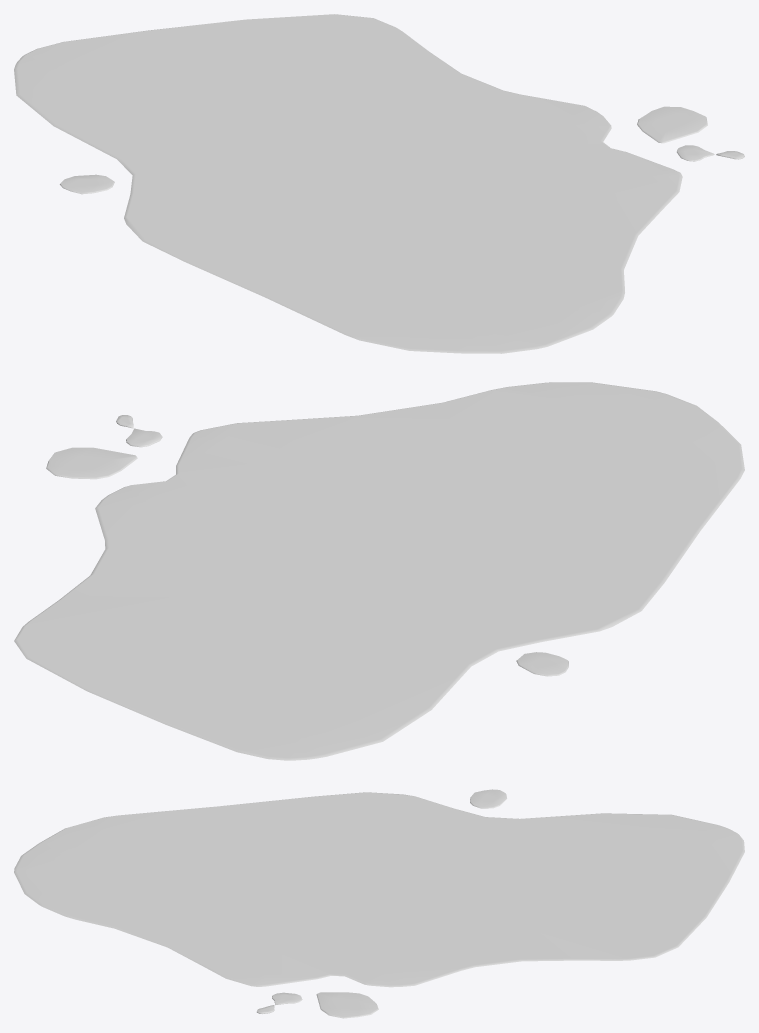
File: saliva.fbx
3 views of the same model, one above another, from view 1: azimuth 30°, elevation 25°; view 2: azimuth 150°, elevation 25°; view 3: azimuth 270°, elevation 25° (orthographic). The views are drawn at different scales.
Parts seen in each view (by area): view 1: saliva; view 2: saliva; view 3: saliva.
Part boxes in pixels (<box>): saliva: <box>14,14,744,353</box>; saliva: <box>14,382,744,760</box>; saliva: <box>14,789,744,1018</box>.
Bounding box in the file's own units: 0.1222 × 0.000245 × 0.1653.
1 material, 1 textured.
